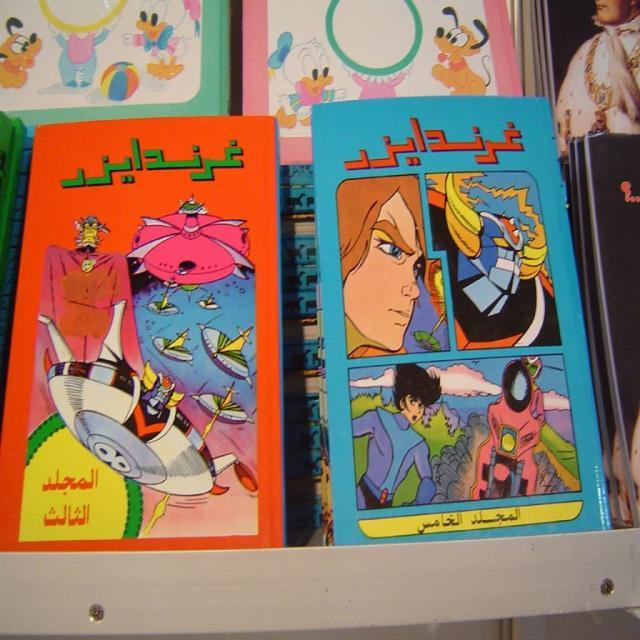book: (307, 93, 613, 542), (1, 124, 282, 549)
